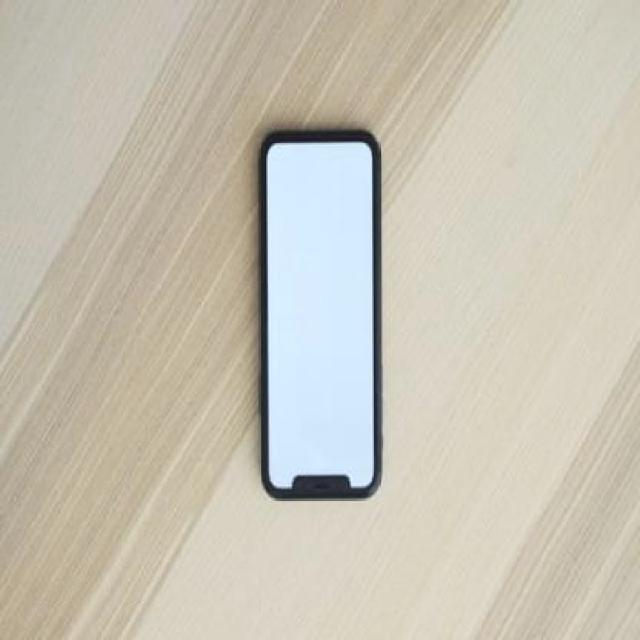phone: (257, 126, 383, 506)
